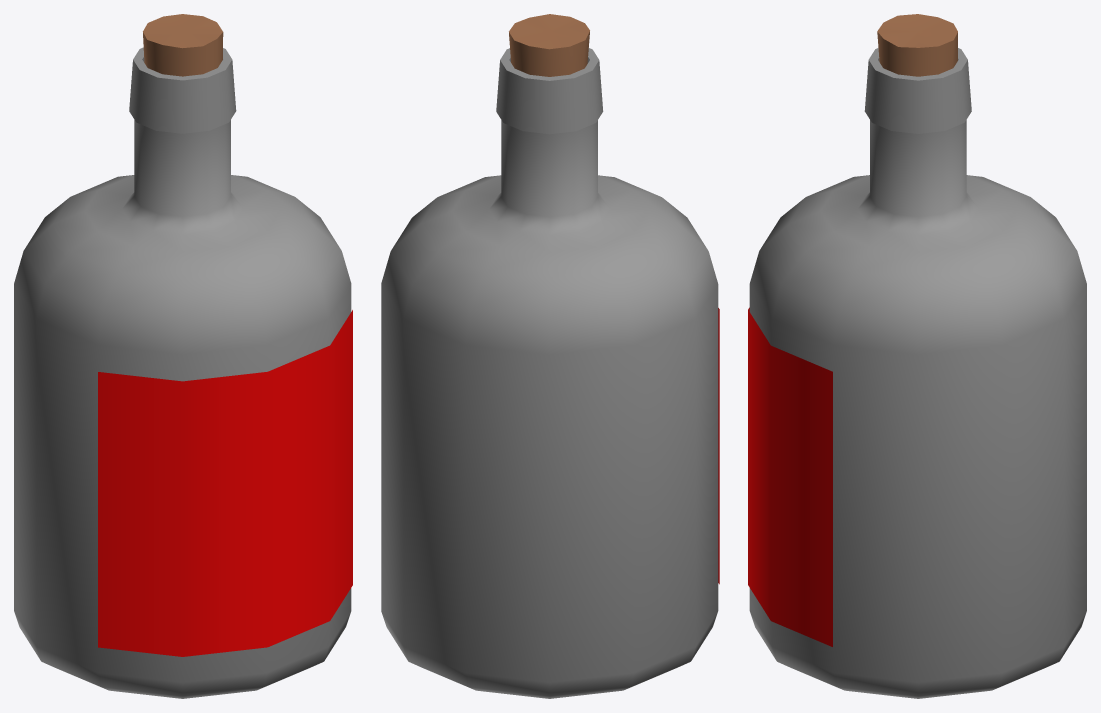
Rendered from Bottle03b.FBX.
The picture shows the model from 3 angles, left to right: view 1: azimuth 30°, elevation 25°; view 2: azimuth 150°, elevation 25°; view 3: azimuth 270°, elevation 25°; orthographic projection.
Visible parts, largest first — view 1: Bottle03b; view 2: Bottle03b; view 3: Bottle03b.
Part boxes in pixels (x1,y1,x2,y2): Bottle03b: [14, 14, 352, 698]; Bottle03b: [381, 14, 719, 698]; Bottle03b: [748, 14, 1086, 698].
Size of the model in its own units: 4.17 by 8.33 by 4.19.
